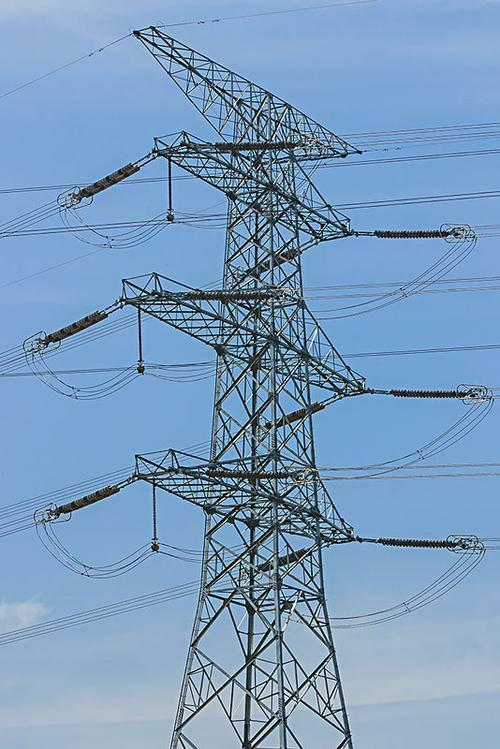power_tower: (120, 10, 386, 749)
